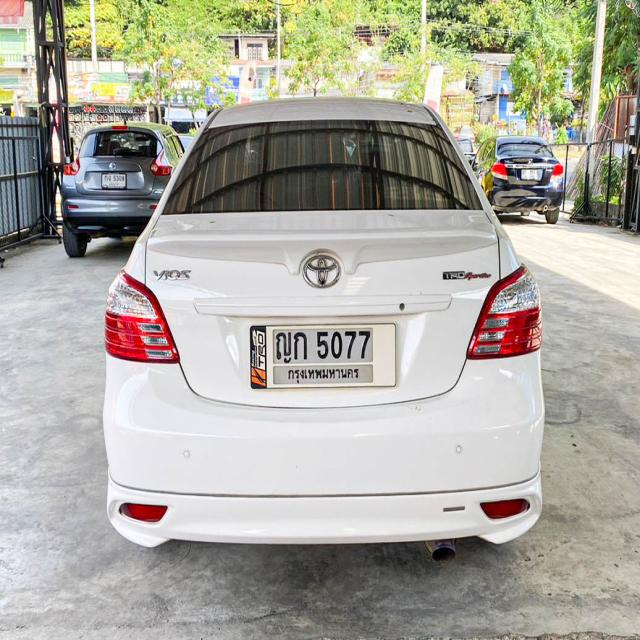license_plate: (244, 321, 401, 397)
